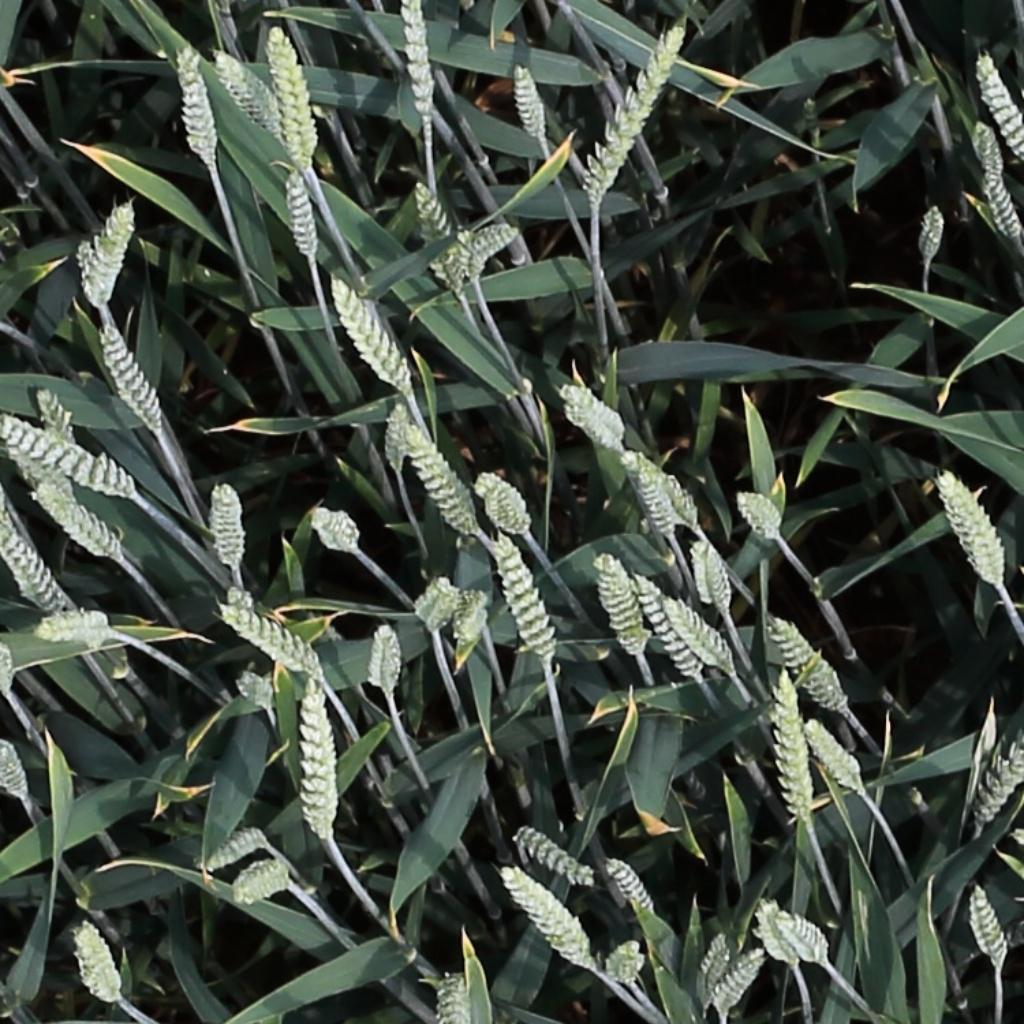0-0: (585, 21, 689, 206), (501, 860, 598, 972), (209, 590, 326, 681), (0, 415, 131, 495), (327, 273, 415, 390), (267, 23, 327, 173), (491, 532, 559, 663), (0, 493, 71, 615), (404, 421, 479, 536), (197, 42, 282, 143), (936, 468, 1008, 587), (633, 572, 705, 688), (293, 674, 342, 844), (96, 320, 167, 435), (74, 197, 143, 311), (771, 617, 850, 711), (959, 728, 1024, 837), (505, 818, 602, 891), (412, 177, 471, 297), (398, 0, 452, 131), (615, 446, 701, 527), (35, 484, 121, 559), (557, 379, 634, 457), (778, 667, 815, 827), (972, 49, 1024, 162), (669, 596, 740, 677), (596, 551, 648, 659), (805, 715, 869, 800), (960, 873, 1013, 974), (177, 43, 219, 166), (711, 943, 771, 1019), (73, 918, 124, 1007), (457, 222, 522, 288), (688, 536, 741, 615), (752, 889, 802, 972), (473, 469, 533, 537), (603, 856, 662, 924), (630, 461, 679, 541), (196, 823, 268, 877), (227, 863, 299, 914), (980, 166, 1024, 248), (779, 909, 836, 972), (283, 163, 320, 260), (31, 608, 122, 647), (512, 60, 551, 144), (32, 379, 76, 453), (212, 476, 243, 574), (416, 574, 461, 633), (700, 929, 737, 1000), (737, 488, 787, 540), (969, 111, 1004, 185), (434, 972, 479, 1024), (372, 618, 400, 701), (0, 735, 32, 806), (308, 509, 361, 551), (607, 935, 645, 992), (456, 588, 490, 649), (918, 196, 947, 264), (236, 669, 278, 715), (386, 397, 410, 477)
